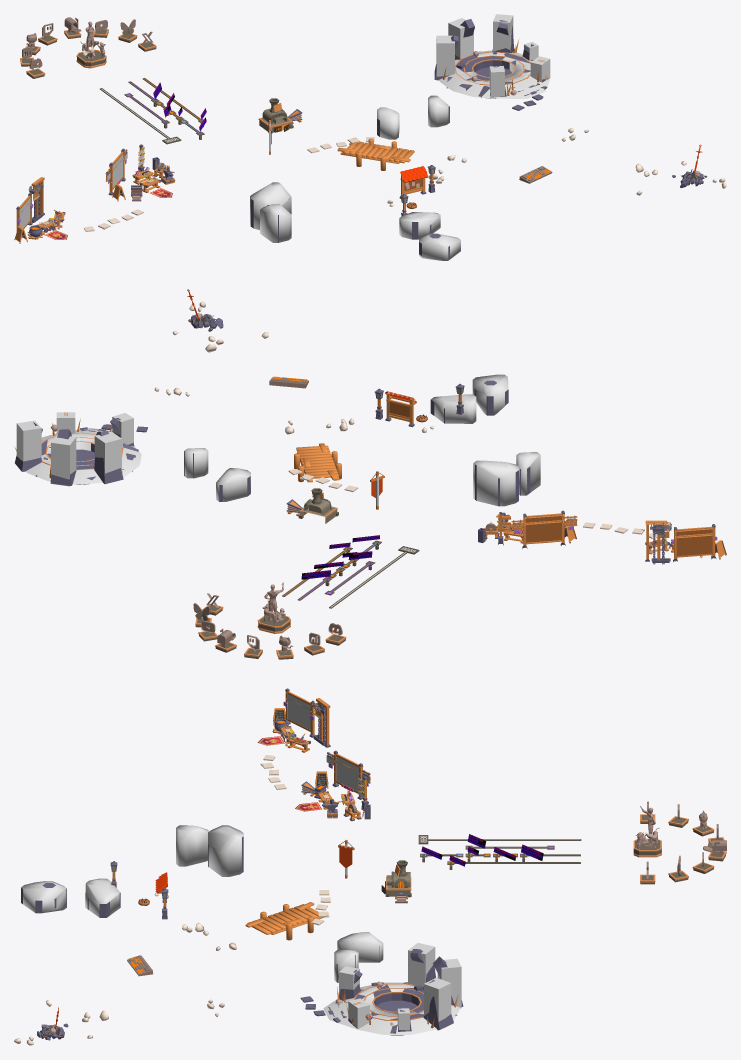
The model's file is sceneryStatic.glb.
3 renders of one model, top to bottom at view 1: azimuth 30°, elevation 25°; view 2: azimuth 150°, elevation 25°; view 3: azimuth 270°, elevation 25°, orthographic. The views are drawn at different scales.
Parts seen in each view (by area): view 1: trimesh.001, Cube.139, hull.016, Cylinder.021, Cube.159, hull.015, hull.011, hull.012, Cube.165, Cube.172, hull.014, Cube.164 (+6 smaller); view 2: hull.015, trimesh.001, Cube.139, Cube.172, Cube.159, hull.012, hull.011, Cube.164, Cylinder.022, Cube.146, hull.014, Cube.165 (+4 smaller); view 3: trimesh.001, hull.015, Cube.139, hull.016, Cube.172, Cylinder.021, Cube.159, hull.011, hull.014, hull.012, Cube.146, Cube.165 (+2 smaller).
Boxes of the visible parts, x1,y1,x2,y2 form: trimesh.001: [439, 50, 550, 98]; Cube.139: [337, 138, 414, 170]; hull.016: [260, 204, 291, 242]; Cylinder.021: [455, 53, 547, 95]; Cube.159: [20, 29, 156, 78]; hull.015: [250, 182, 291, 229]; hull.011: [419, 234, 460, 260]; hull.012: [399, 212, 440, 239]; Cube.165: [436, 35, 454, 80]; Cube.172: [434, 19, 533, 97]; hull.014: [377, 107, 399, 139]; Cube.164: [448, 18, 473, 58]; hull.015: [473, 460, 518, 506]; trimesh.001: [26, 428, 141, 484]; Cube.139: [294, 443, 341, 482]; Cube.172: [15, 418, 134, 485]; Cube.159: [195, 603, 346, 659]; hull.012: [431, 394, 476, 423]; hull.011: [472, 374, 508, 415]; Cube.164: [51, 434, 76, 486]; Cylinder.022: [184, 380, 530, 506]; Cube.146: [16, 420, 41, 471]; hull.014: [216, 468, 250, 501]; Cube.165: [94, 431, 121, 484]; trimesh.001: [323, 982, 460, 1035]; hull.015: [208, 825, 243, 876]; Cube.139: [245, 902, 325, 940]; hull.016: [176, 825, 209, 866]; Cube.172: [339, 949, 463, 1031]; Cylinder.021: [328, 984, 423, 1022]; Cube.159: [640, 814, 726, 882]; hull.011: [21, 881, 66, 912]; hull.014: [337, 932, 383, 962]; hull.012: [85, 878, 120, 917]; Cube.146: [424, 977, 451, 1030]; Cube.165: [408, 943, 435, 986].
Bounding box in the file's own units: 83.84 × 8.2 × 78.34.
35 materials, 10 textured.
